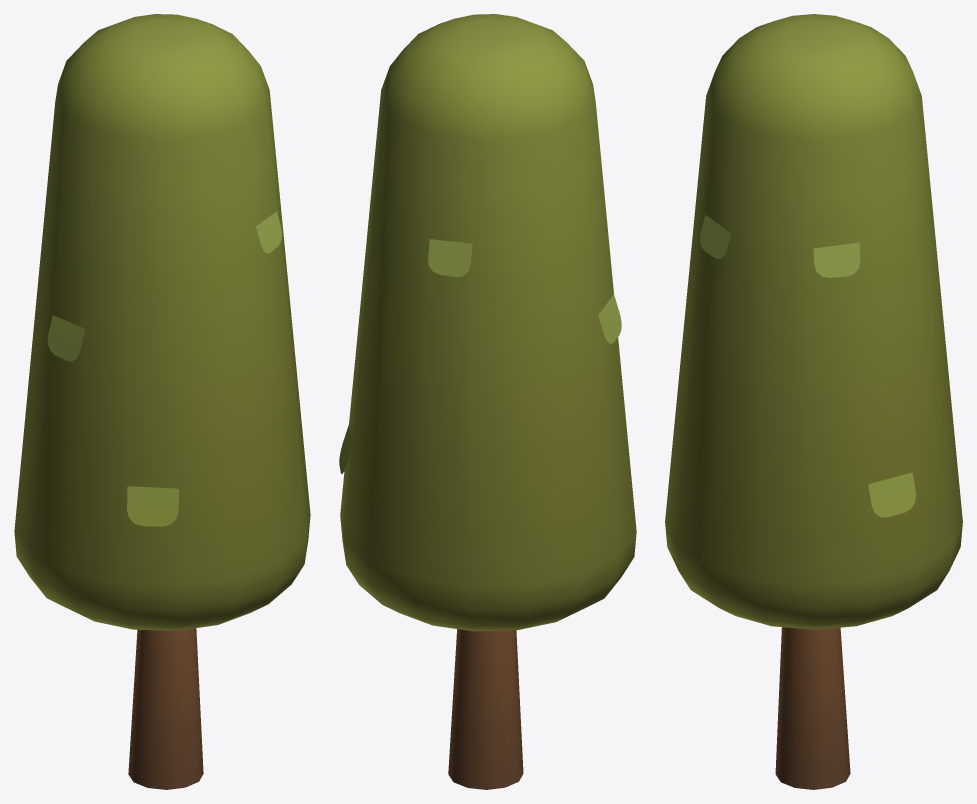
Rendered from tree-03.glb.
The picture shows the model from 3 angles, left to right: view 1: azimuth 30°, elevation 25°; view 2: azimuth 150°, elevation 25°; view 3: azimuth 270°, elevation 25°; orthographic projection.
Visible parts, largest first — view 1: tree 03; view 2: tree 03; view 3: tree 03.
Boxes of the visible parts, bbox=[...] form: tree 03: bbox=[14, 14, 310, 789]; tree 03: bbox=[339, 14, 636, 789]; tree 03: bbox=[665, 14, 962, 789].
Size of the model in its own units: 1.27 by 3.49 by 1.27.
Materials: 1 (1 with a texture image).
